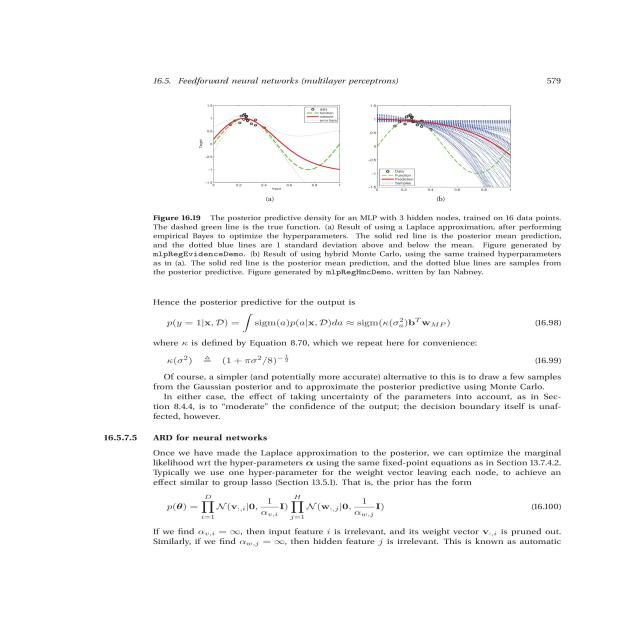diagram: (120, 100, 590, 289)
